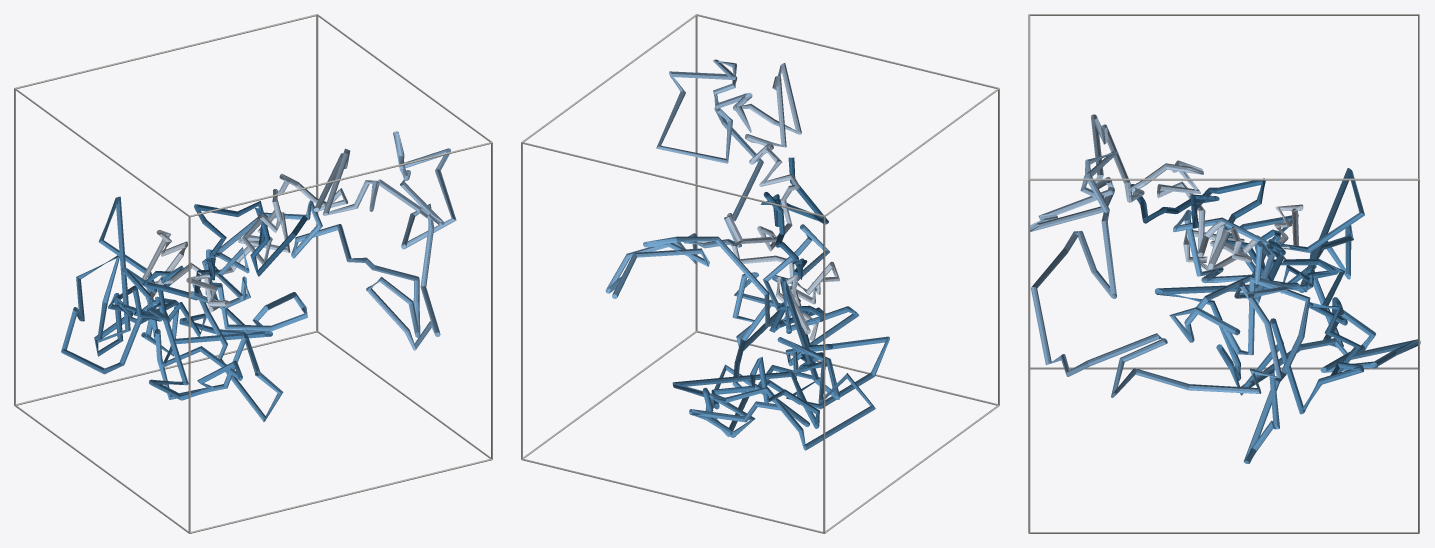
Rendered from BR20_late.glb.
The picture shows the model from 3 angles, left to right: view 1: azimuth 30°, elevation 25°; view 2: azimuth 150°, elevation 25°; view 3: azimuth 270°, elevation 25°; orthographic projection. The views are drawn at different scales.
Visible parts, largest first — view 1: geometry_0, geometry_1; view 2: geometry_0, geometry_1; view 3: geometry_0, geometry_1.
Boxes of the visible parts, x1,y1,x2,y2 form: geometry_0: (61,131,456,421); geometry_1: (14,14,492,533); geometry_0: (605,59,889,450); geometry_1: (521,14,999,533); geometry_0: (1030,114,1420,463); geometry_1: (1028,14,1419,533).
Bounding box in the file's own units: 0.3043 × 0.3032 × 0.3021.
